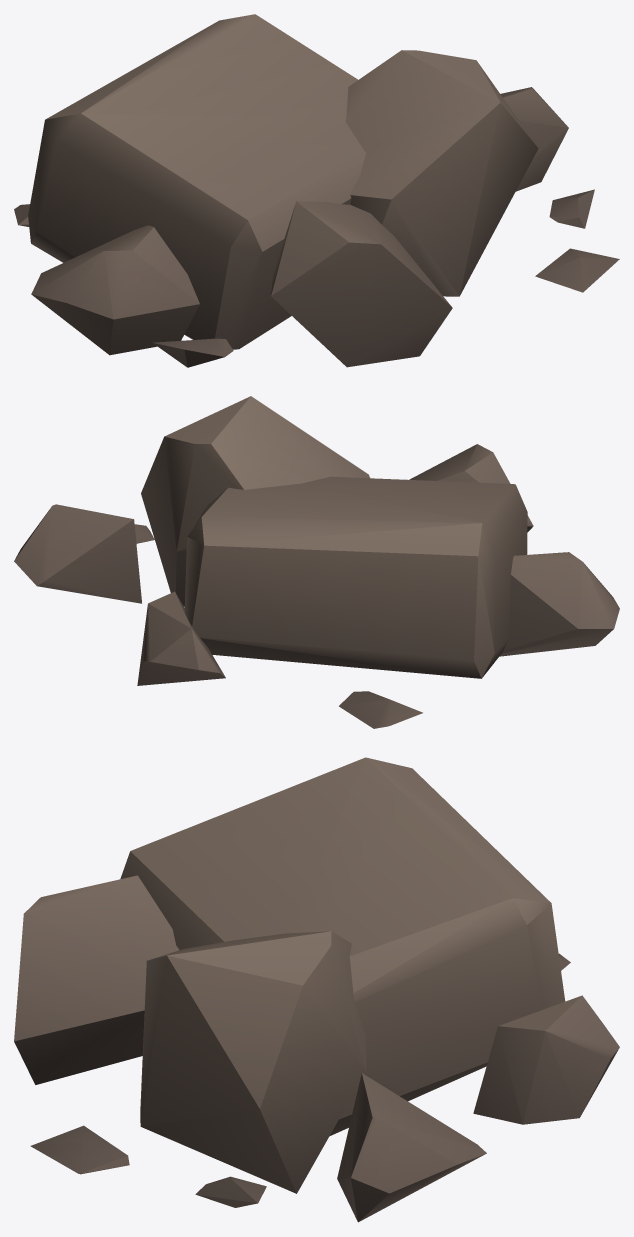
File: rubble_medium.glb
3 views of the same model, one above another, from view 1: azimuth 30°, elevation 25°; view 2: azimuth 150°, elevation 25°; view 3: azimuth 270°, elevation 25° (orthographic). The views are drawn at different scales.
Parts seen in each view (by area): view 1: rubble_medium; view 2: rubble_medium; view 3: rubble_medium.
Boxes of the visible parts, left/top/right/bottom form: rubble_medium: left=14, top=14, right=619, bottom=367; rubble_medium: left=14, top=396, right=619, bottom=728; rubble_medium: left=14, top=757, right=619, bottom=1222.
Size of the model in its own units: 1.26 by 0.4164 by 0.9801.
Materials: 1 (1 with a texture image).
